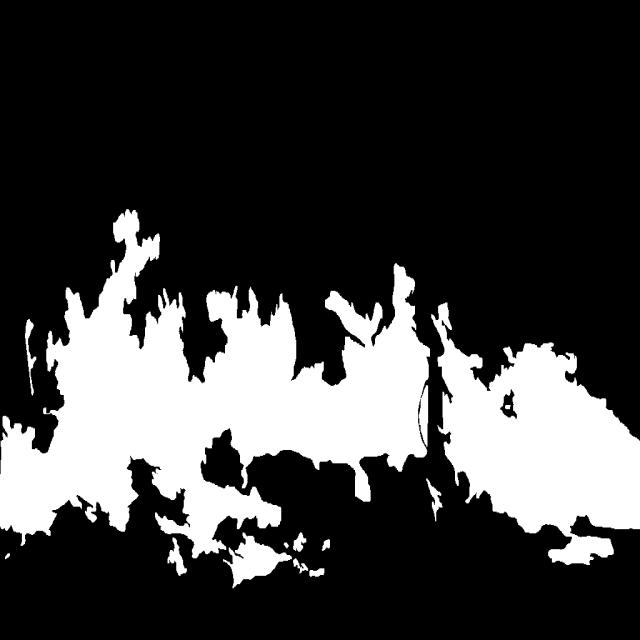fire: (0, 196, 640, 578)
